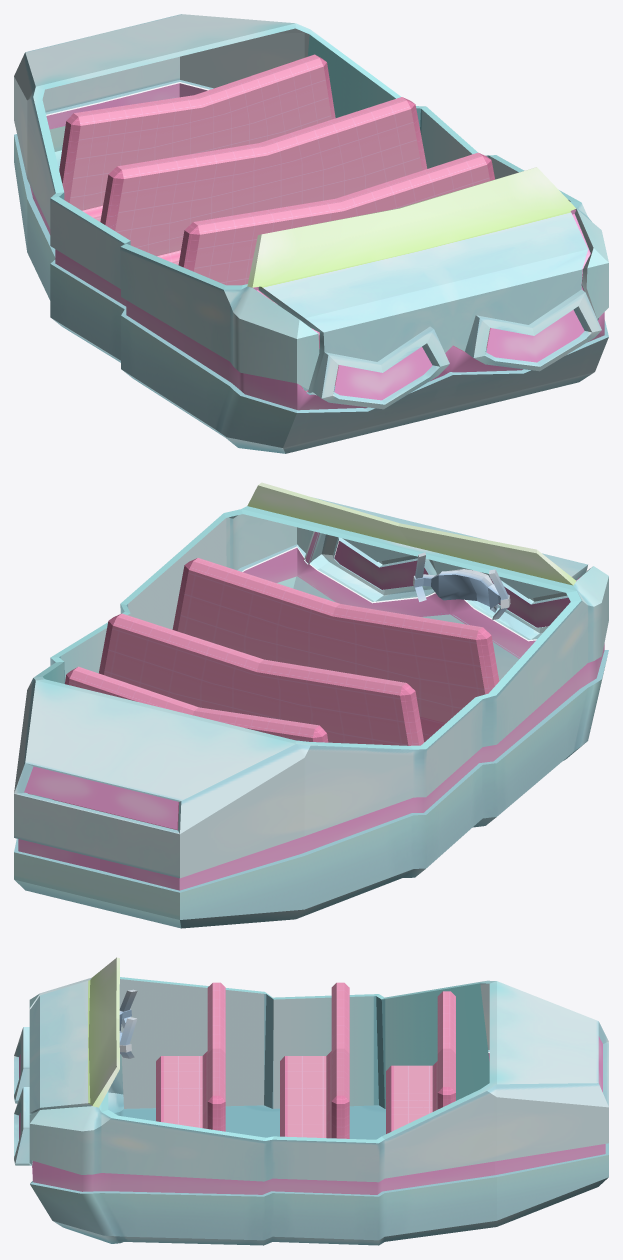
File: bus_v1.fbx
3 views of the same model, one above another, from view 1: azimuth 30°, elevation 25°; view 2: azimuth 150°, elevation 25°; view 3: azimuth 270°, elevation 25° (orthographic). The views are drawn at different scales.
Visible parts, largest first — view 1: polySurface5, isu4, isu5, isu3, LINE, R_hart, R_hart1; view 2: polySurface5, isu3, isu4, LINE, backlight, isu5, hundle1, R_hart1, R_hart; view 3: polySurface5, LINE, isu4, isu3, isu5, hundle1.
Part boxes in pixels (box(x1,y1,x2,y2)): polySurface5: box(14, 14, 608, 453); isu4: box(100, 97, 427, 265); isu5: box(59, 54, 335, 221); isu3: box(178, 152, 494, 392); LINE: box(30, 83, 604, 410); R_hart: box(334, 347, 432, 400); R_hart1: box(486, 310, 584, 362); polySurface5: box(14, 482, 608, 928); isu3: box(172, 558, 499, 742); isu4: box(99, 613, 423, 745); LINE: box(18, 548, 604, 890); backlight: box(24, 766, 178, 829); isu5: box(52, 666, 328, 830); hundle1: box(413, 552, 510, 619); R_hart1: box(334, 541, 428, 589); R_hart: box(490, 578, 570, 627); polySurface5: box(14, 957, 608, 1245); LINE: box(32, 1053, 605, 1194); isu4: box(280, 982, 349, 1138); isu3: box(156, 982, 225, 1131); isu5: box(386, 991, 455, 1133); hundle1: box(119, 989, 137, 1058).
Size of the model in its own units: 449 by 234 by 757.
